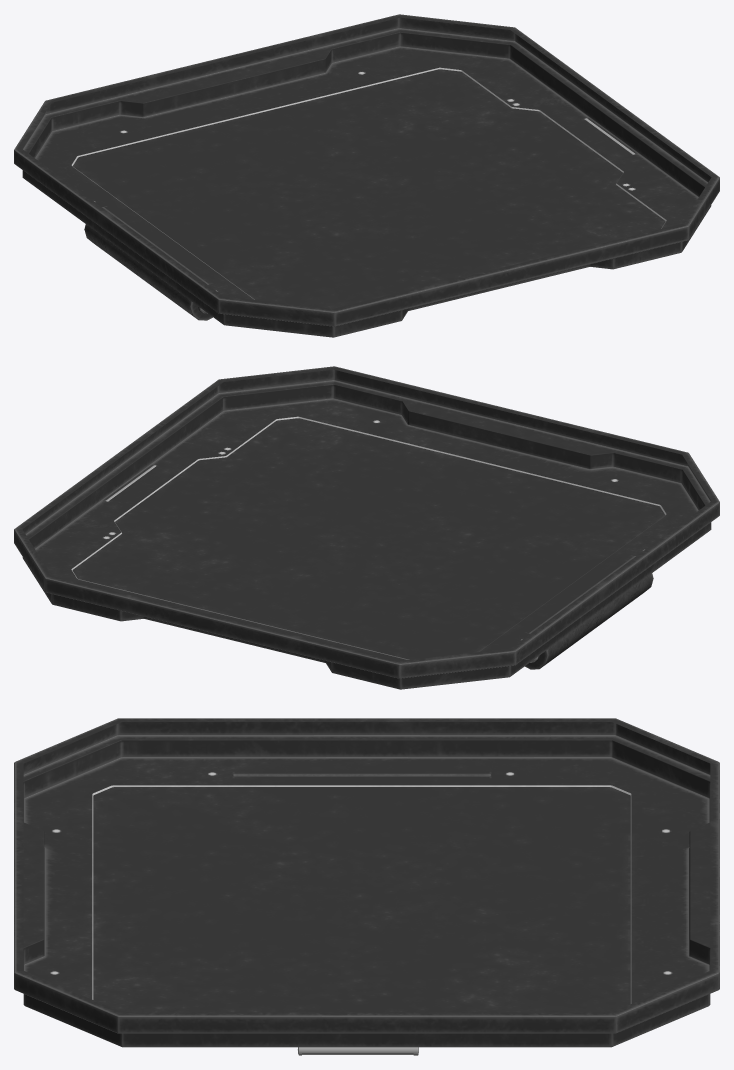
The model's file is hatch.obj.
3 renders of one model, top to bottom at view 1: azimuth 30°, elevation 25°; view 2: azimuth 150°, elevation 25°; view 3: azimuth 270°, elevation 25°, orthographic. The views are drawn at different scales.
Parts seen in each view (by area): view 1: Plane087; view 2: Plane087; view 3: Plane087.
Boxes of the visible parts, <box> form: Plane087: <box>14,14,719,337</box>; Plane087: <box>14,366,719,689</box>; Plane087: <box>14,718,719,1055</box>.
Size of the model in its own units: 1.18 by 0.1544 by 1.18.
Materials: 1 (1 with a texture image).
